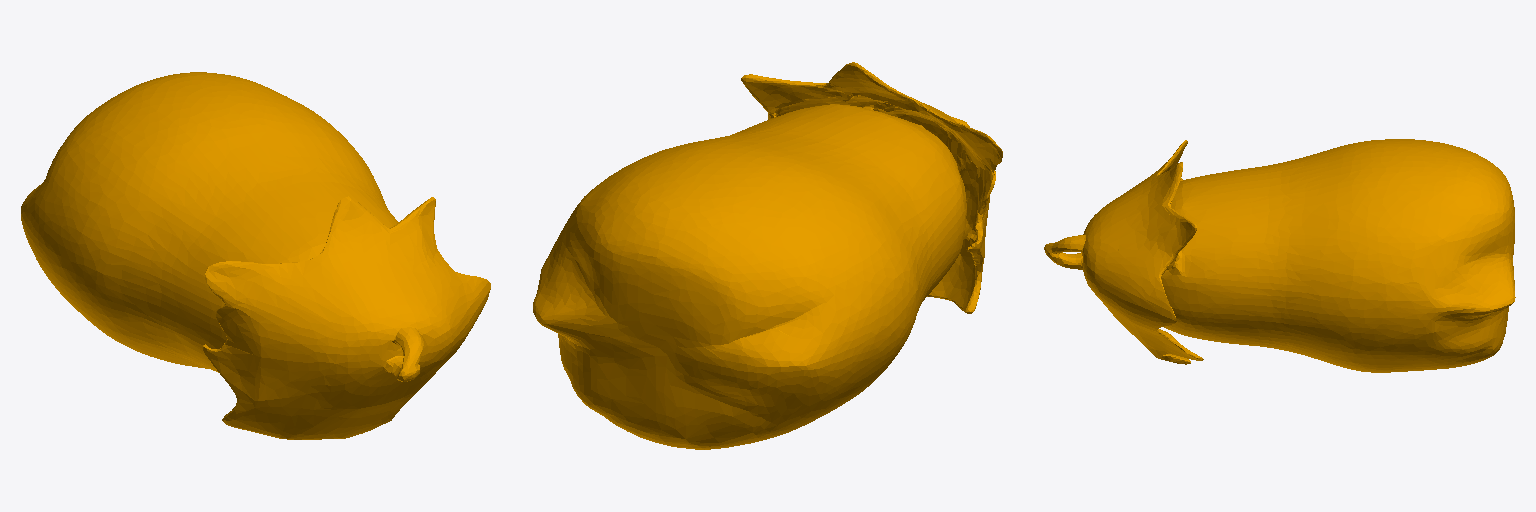
robot.urdf — sample:
<?xml version='1.0' encoding='utf-8'?>
<robot name="sample">
    <link name="sample">
        <visual>
            <origin xyz="0 0 0" rpy="1.5708 0.0 0.0" />
            <geometry>
                <mesh filename="mesh/sample.obj" scale="1.0 1.0 1.0" />
            </geometry>
        </visual>
        <collision>
            <origin xyz="0 0 0" rpy="1.5708 0.0 0.0" />
            <geometry>
                <mesh filename="mesh/sample_collision.obj" scale="1.0 1.0 1.0" />
            </geometry>
            <gazebo>
                <mu1>0.80</mu1> 
                <mu2>0.60</mu2> 
            </gazebo>
        </collision>
        <inertial>
            <mass value="1.0000" />
            <origin xyz="0 0 0" />
            <inertia ixx="1.0" ixy="0.0" ixz="0.0" iyy="1.0" iyz="0.0" izz="1.0" />
        </inertial>
        <extra_info>
            <scale>0.105000</scale>
            <version>v0.1.7</version>
            <category>toy</category>
            <description>toy</description>
            <min_height>0.04</min_height>
            <max_height>0.06</max_height>
            <real_height>0.050</real_height>
            <min_mass>0.05</min_mass>
            <max_mass>0.15</max_mass>
            <color>unknown</color>
            <rgba>[0.5, 0.5, 0.5, 1.0]</rgba>
            <generate_time>20260813163129</generate_time>
            <gs_model>""</gs_model>
        </extra_info>
    </link>
</robot>

--- What the picture shows (computed from the rendered views, not written in the file) ---
3 views of the same robot in one strip: view 1: azimuth 30°, elevation 25°; view 2: azimuth 150°, elevation 25°; view 3: azimuth 270°, elevation 25° (orthographic).
Model sample with 1 links and 0 joints (none), rooted at sample, posed every joint at zero.
Visible links, largest first — view 1: sample; view 2: sample; view 3: sample.
Boxes of the visible links, <box> form: sample: <box>21,72,490,439</box>; sample: <box>533,62,1002,449</box>; sample: <box>1044,139,1515,372</box>.
Bounding box of the posed robot: 0.065 × 0.105 × 0.05 m (x, y, z).
1 mesh visuals loaded from 1 distinct referenced files (1 OBJ).
